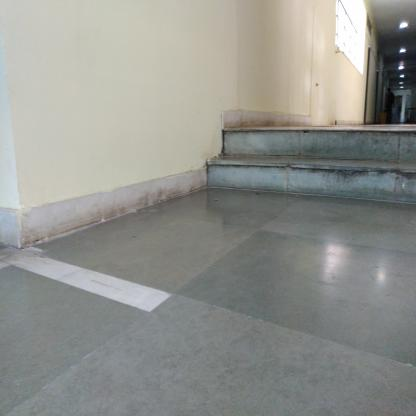stairs: (223, 125, 416, 201)
